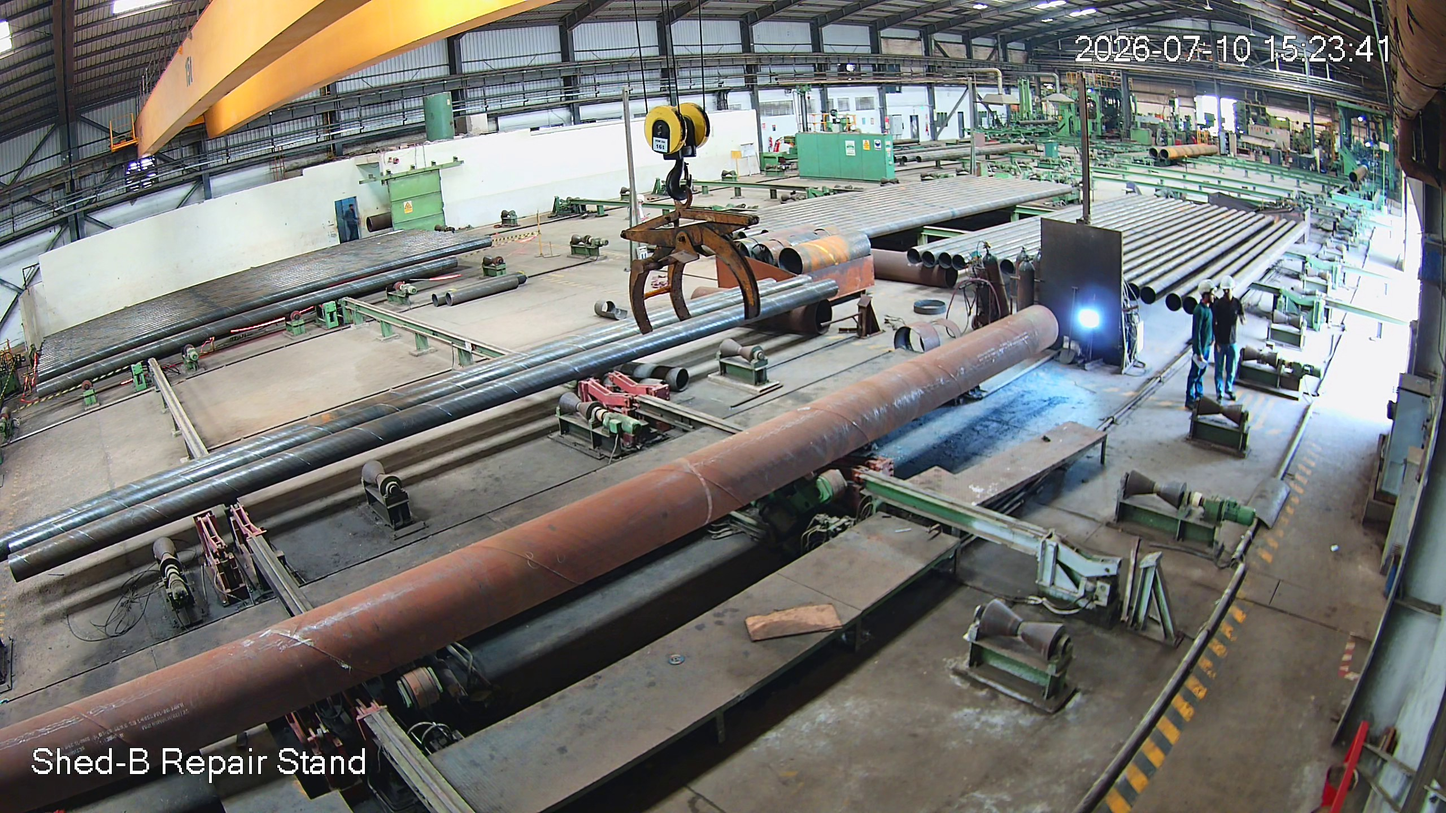Helmet: (1196, 274, 1225, 312), (1215, 270, 1243, 304)
Person: (1189, 280, 1228, 404), (1217, 275, 1250, 404)
